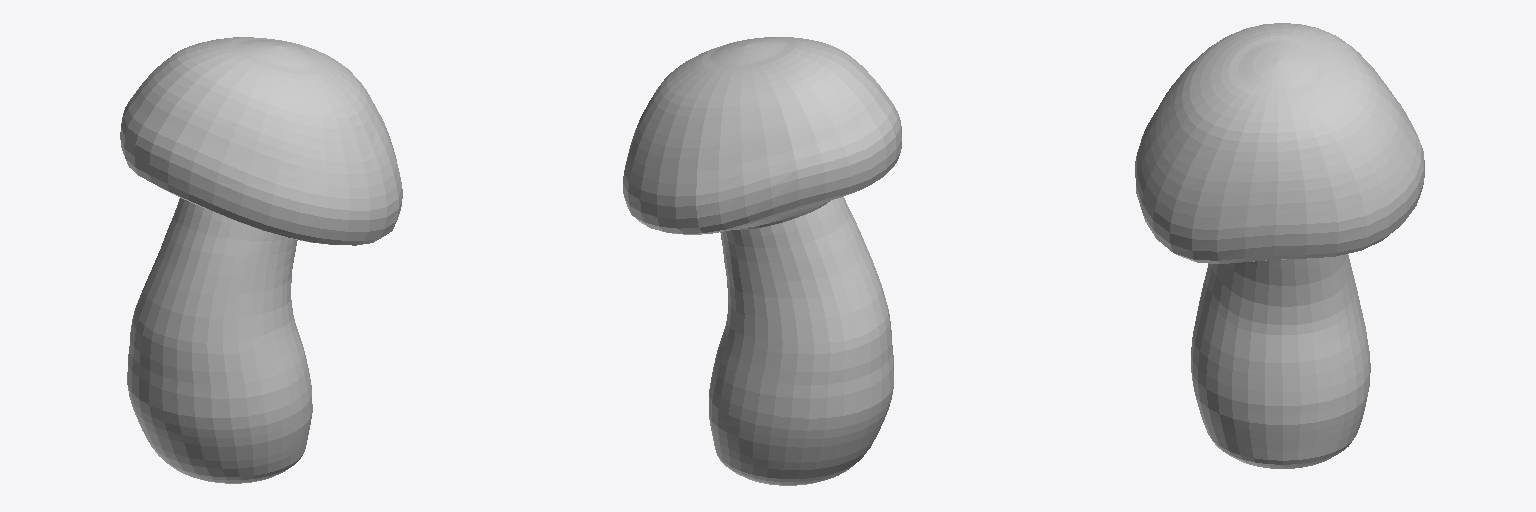
The model's file is belyj-grib-dubovyj.obj.
3 views of the same model, side by side, from view 1: azimuth 30°, elevation 25°; view 2: azimuth 150°, elevation 25°; view 3: azimuth 270°, elevation 25° (orthographic).
Visible parts, largest first — view 1: Cylinder; view 2: Cylinder; view 3: Cylinder.
Part boxes in pixels (bbox=[...]): Cylinder: bbox=[120, 37, 402, 483]; Cylinder: bbox=[623, 37, 901, 485]; Cylinder: bbox=[1135, 23, 1424, 468].
Bounding box in the file's own units: 1.8 × 2.99 × 1.88.